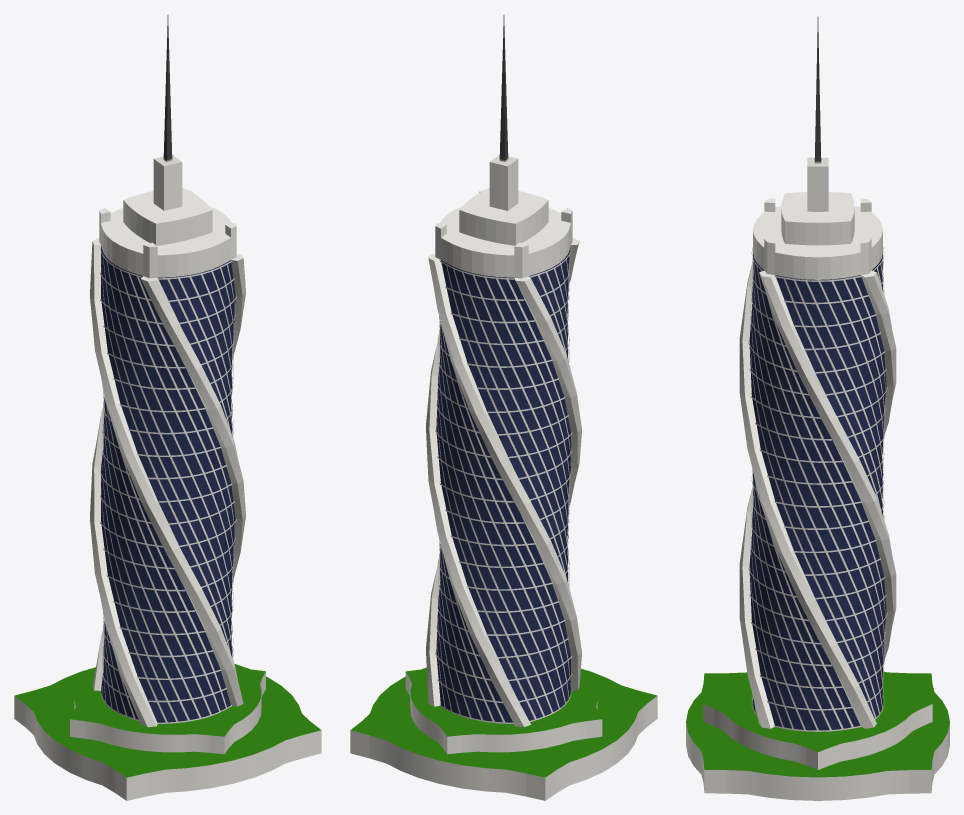
The model's file is Building.fbx.
3 views of the same model, side by side, from view 1: azimuth 30°, elevation 25°; view 2: azimuth 150°, elevation 25°; view 3: azimuth 270°, elevation 25° (orthographic).
Parts seen in each view (by area): view 1: FuturisticBuilding; view 2: FuturisticBuilding; view 3: FuturisticBuilding.
Part boxes in pixels (x1,y1,x2,y2): FuturisticBuilding: [14, 15, 321, 800]; FuturisticBuilding: [350, 15, 657, 800]; FuturisticBuilding: [686, 17, 949, 800].
Bounding box in the file's own units: 5.3 × 16.2 × 5.3.
1 material, 1 textured.
